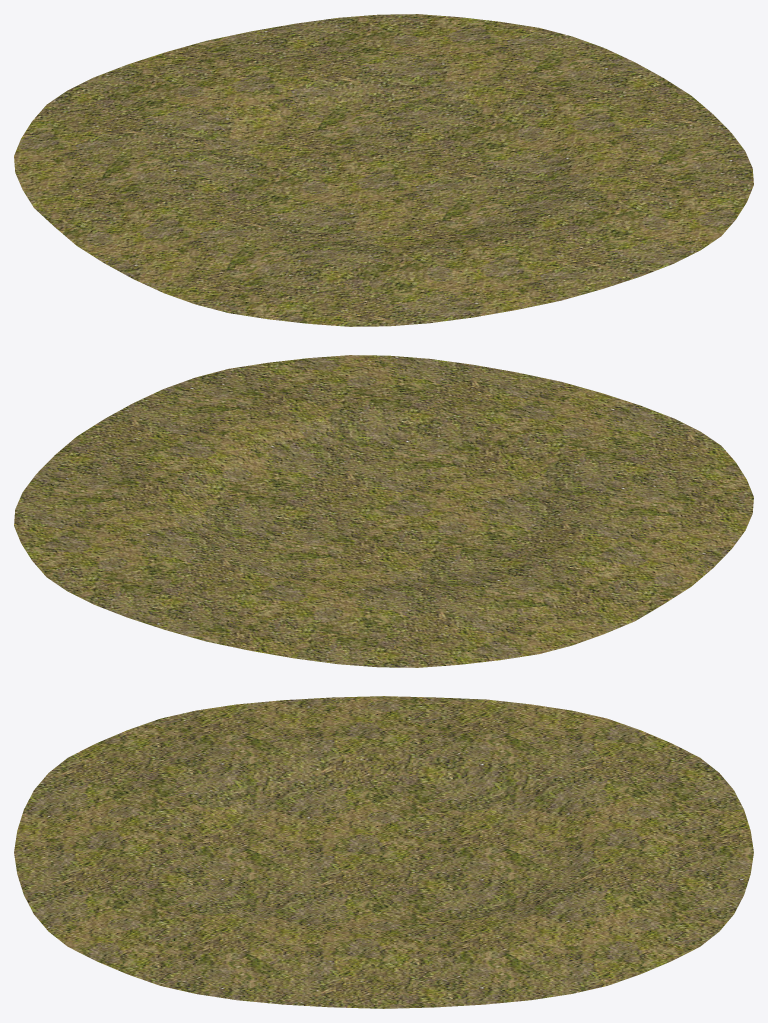
The model's file is grass.fbx.
The picture shows the model from 3 angles, top to bottom: view 1: azimuth 30°, elevation 25°; view 2: azimuth 150°, elevation 25°; view 3: azimuth 270°, elevation 25°; orthographic projection. The views are drawn at different scales.
Parts seen in each view (by area): view 1: OBJ_GroundGrass.001; view 2: OBJ_GroundGrass.001; view 3: OBJ_GroundGrass.001.
Part boxes in pixels (left/top/right/bottom): OBJ_GroundGrass.001: left=14, top=14, right=753, bottom=326; OBJ_GroundGrass.001: left=14, top=355, right=753, bottom=667; OBJ_GroundGrass.001: left=14, top=696, right=753, bottom=1008.
Size of the model in its own units: 3173 by 30.39 by 3173.
